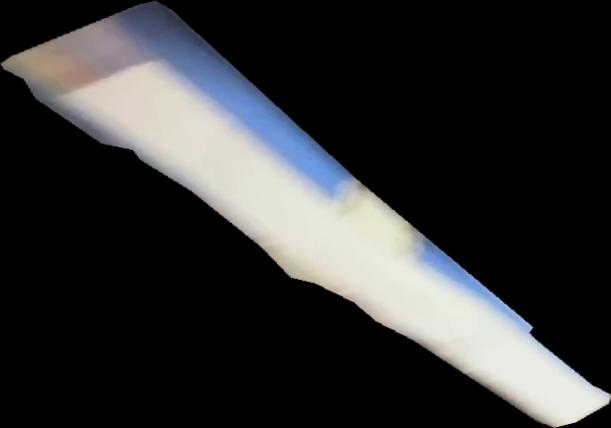backward: (1, 1, 611, 428)
